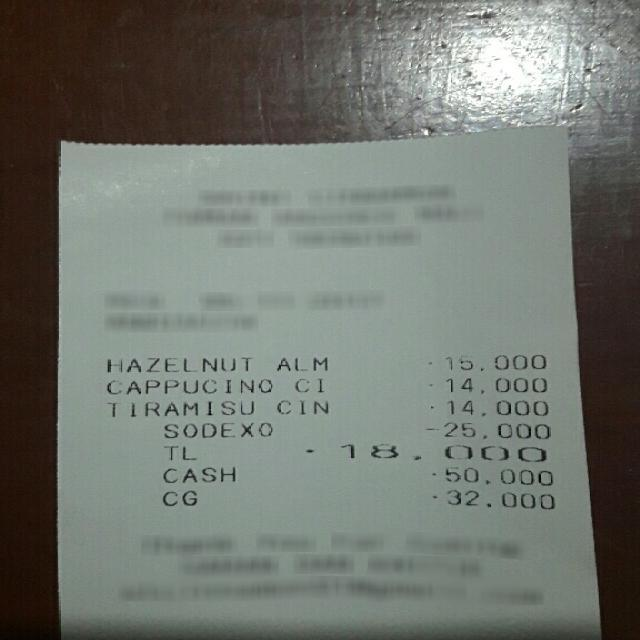kertas: (58, 127, 600, 640)
